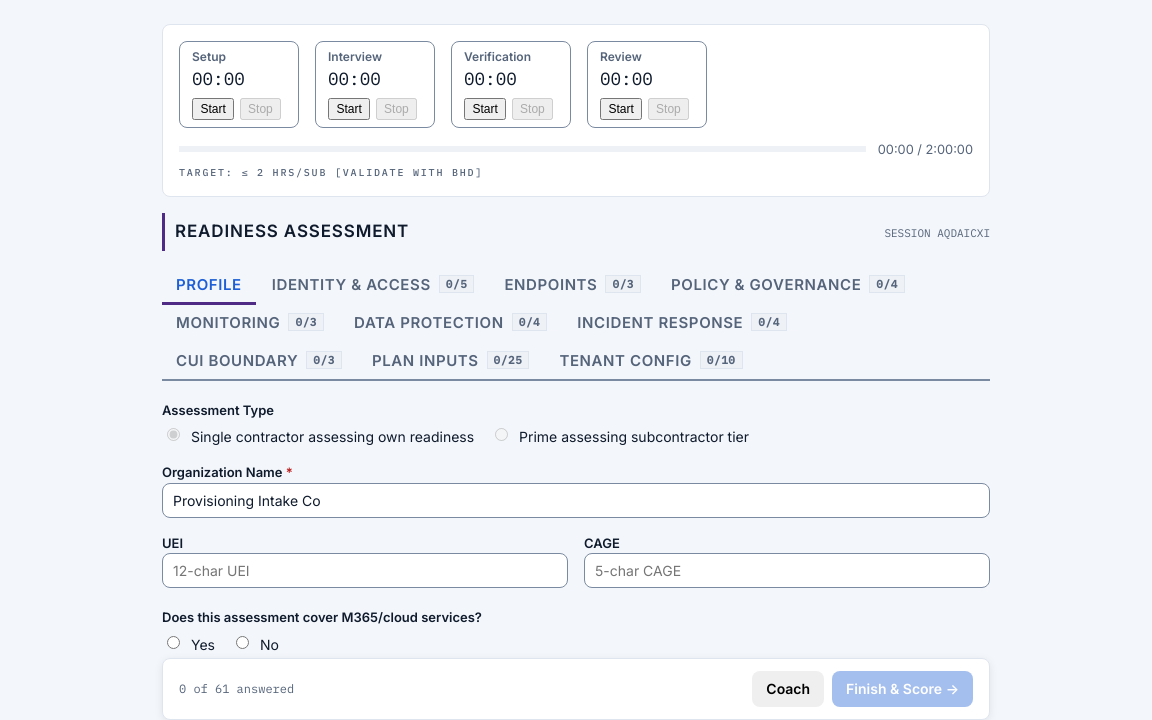
Test case: FC-MU-2 MS-5 provisioning inputs in the Tenant Config intake › initial password: generated, shown once, never written to Dexie; the fact is the reference
The image size is (1152, 720).
Click the tab with test id "tab-plan-input:tcp" at (651, 362), box left=545, top=343, right=757, bottom=381
(page scrolled)
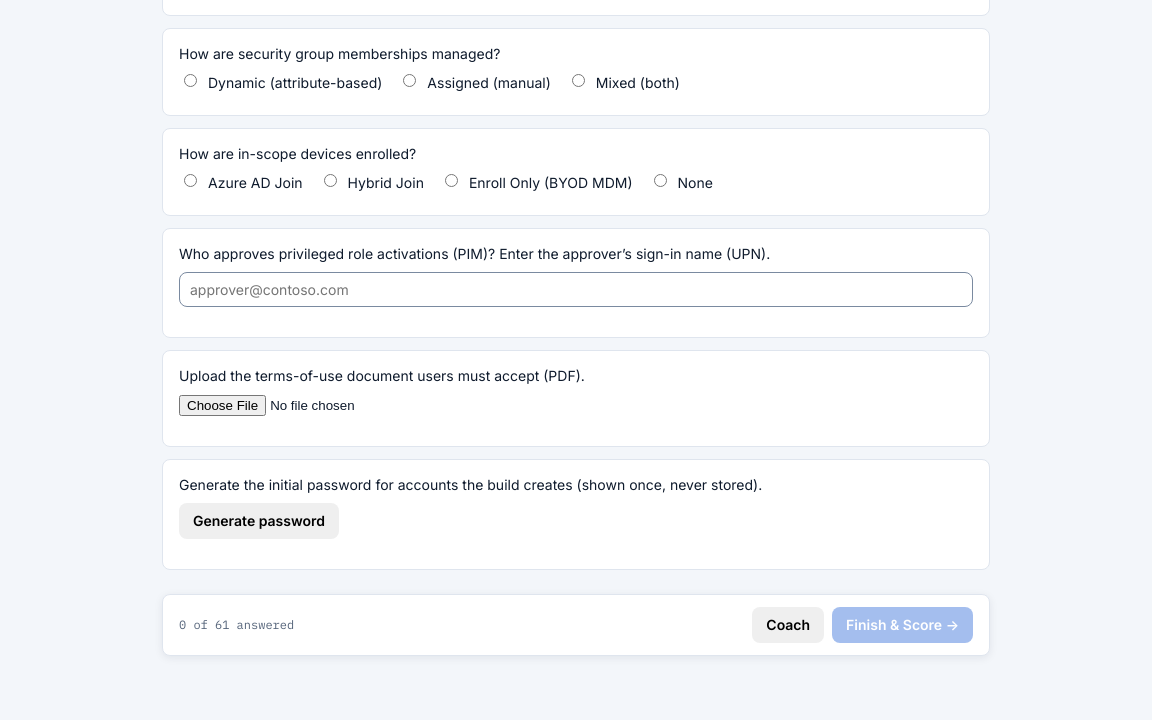
Click the button with test id "plan-input-TCP.MU.003" at (259, 521), box left=179, top=503, right=339, bottom=539
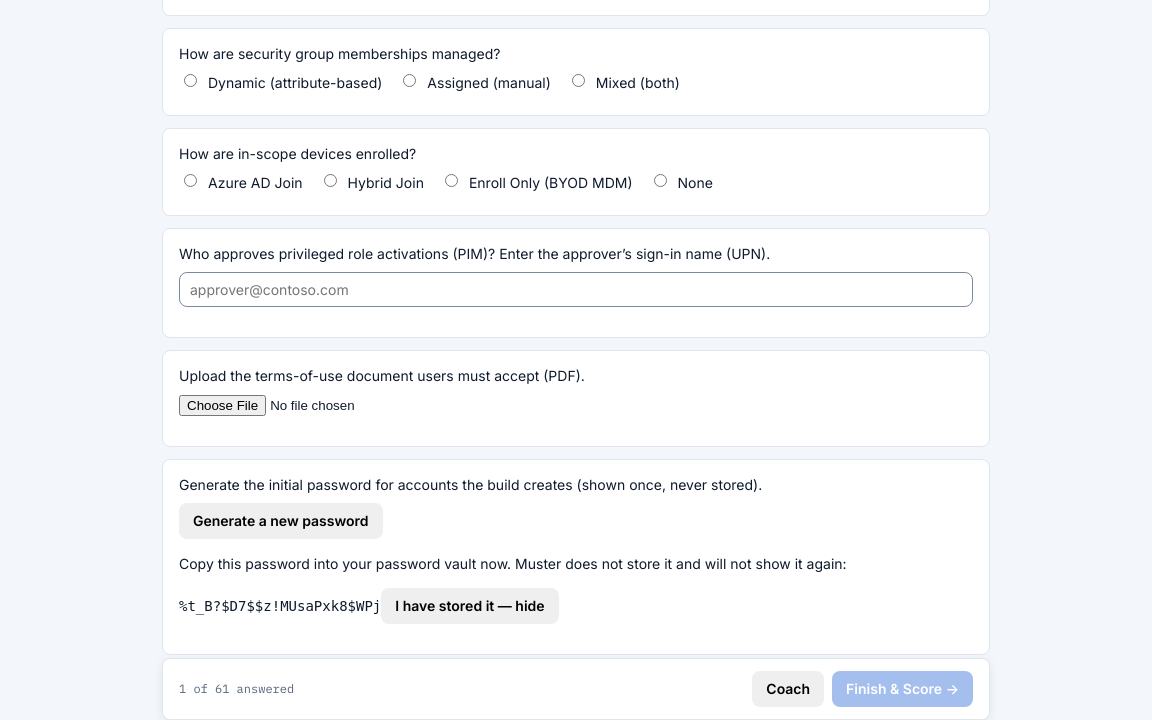
Click the button with test id "plan-input-secret-hide-TCP.MU.003" at (470, 606), box left=381, top=588, right=559, bottom=624
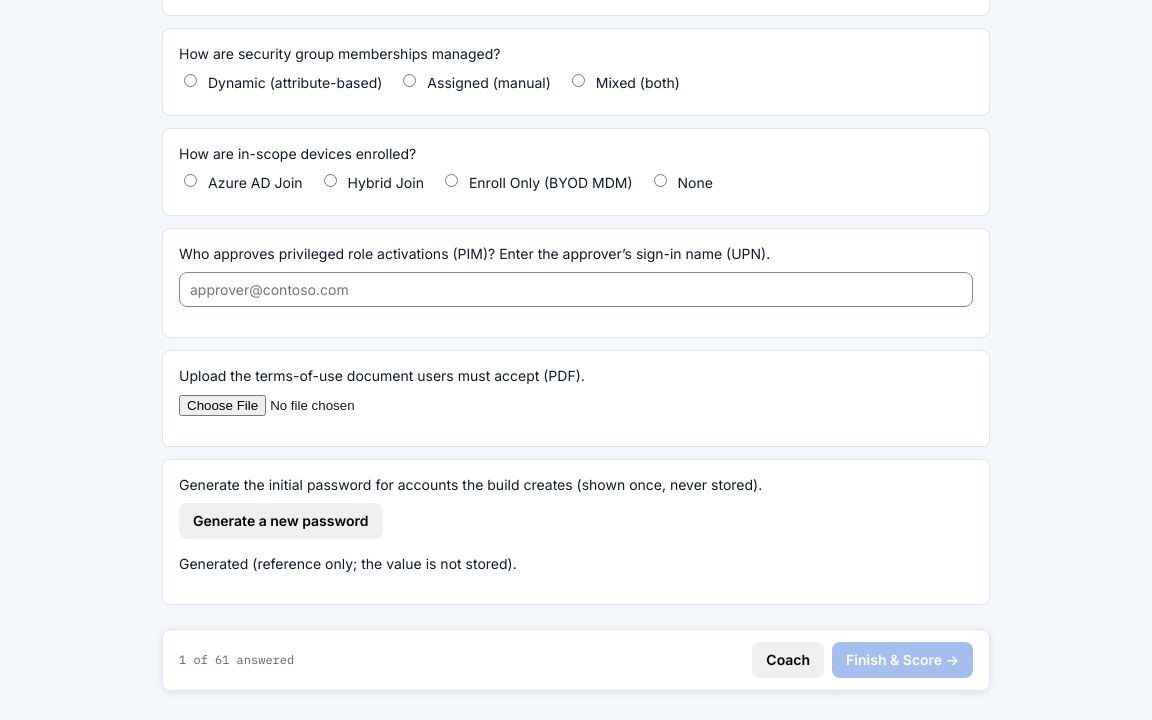
Now the text with test id "plan-input-secret-value-TCP.MU.003" is gone
